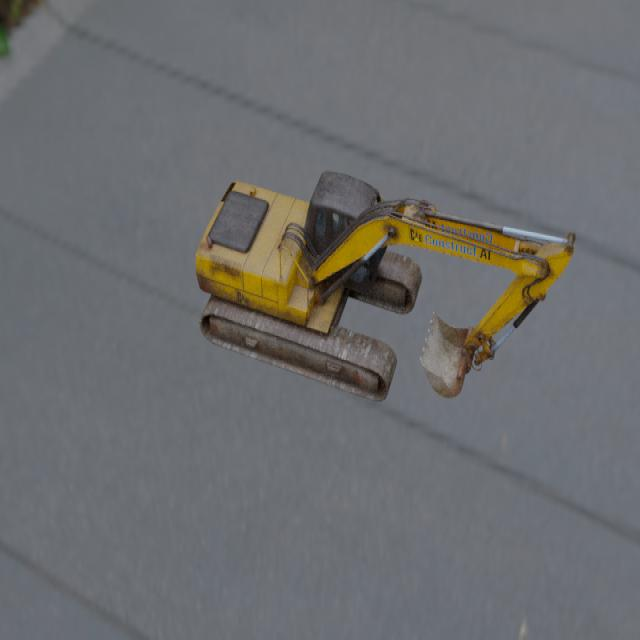excavator: (195, 170, 576, 402)
